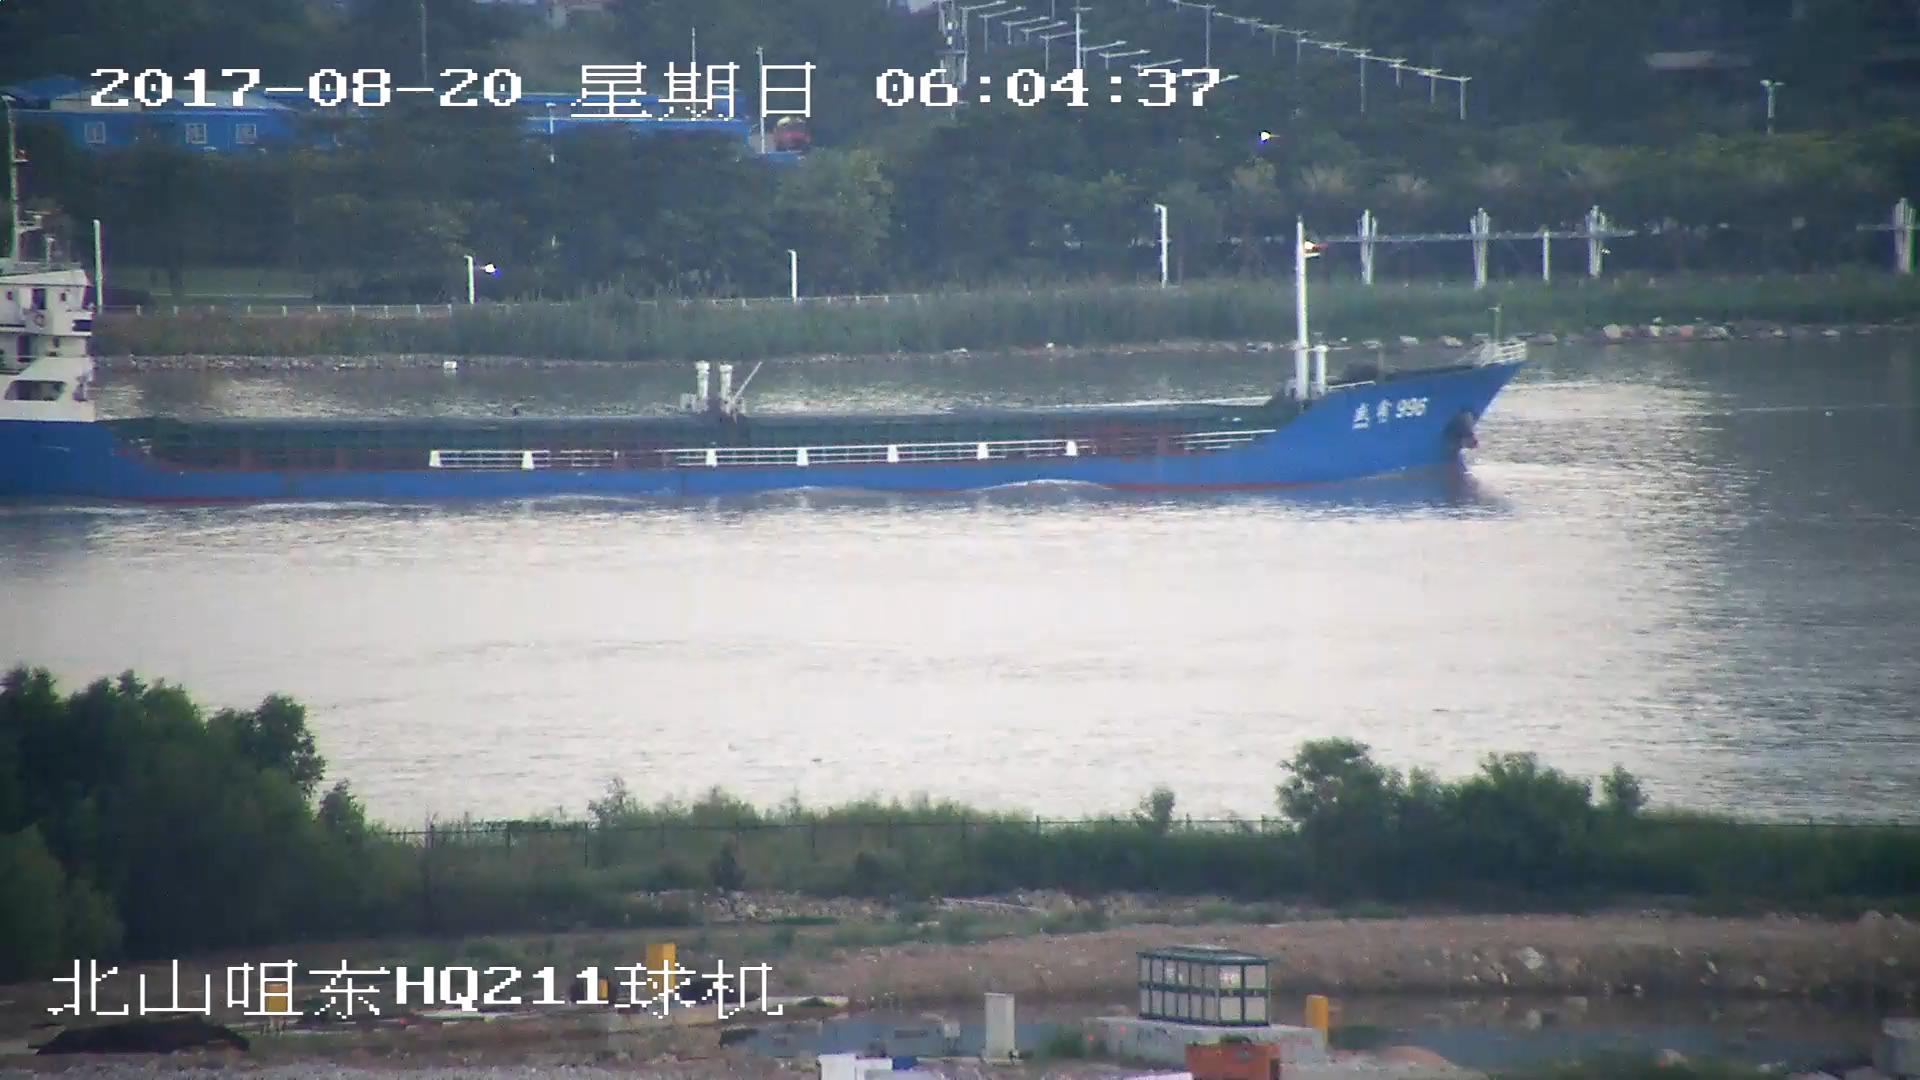general cargo ship: (1, 254, 1509, 502)
